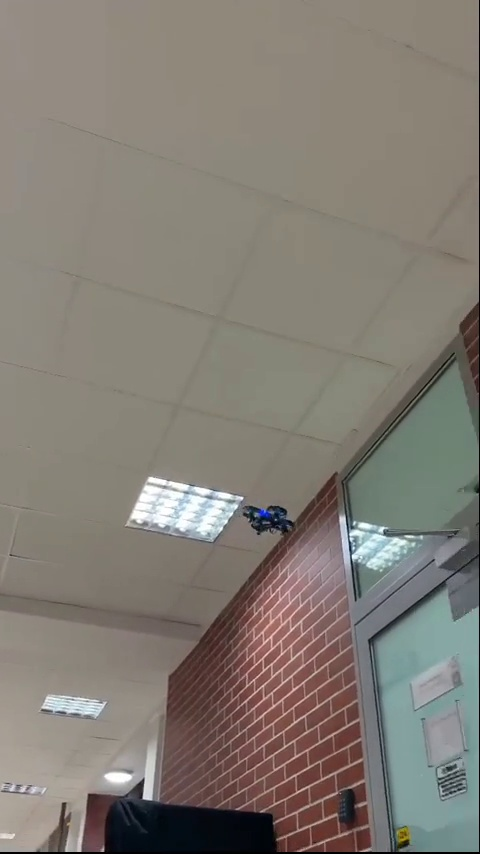drone: (240, 499, 301, 535)
